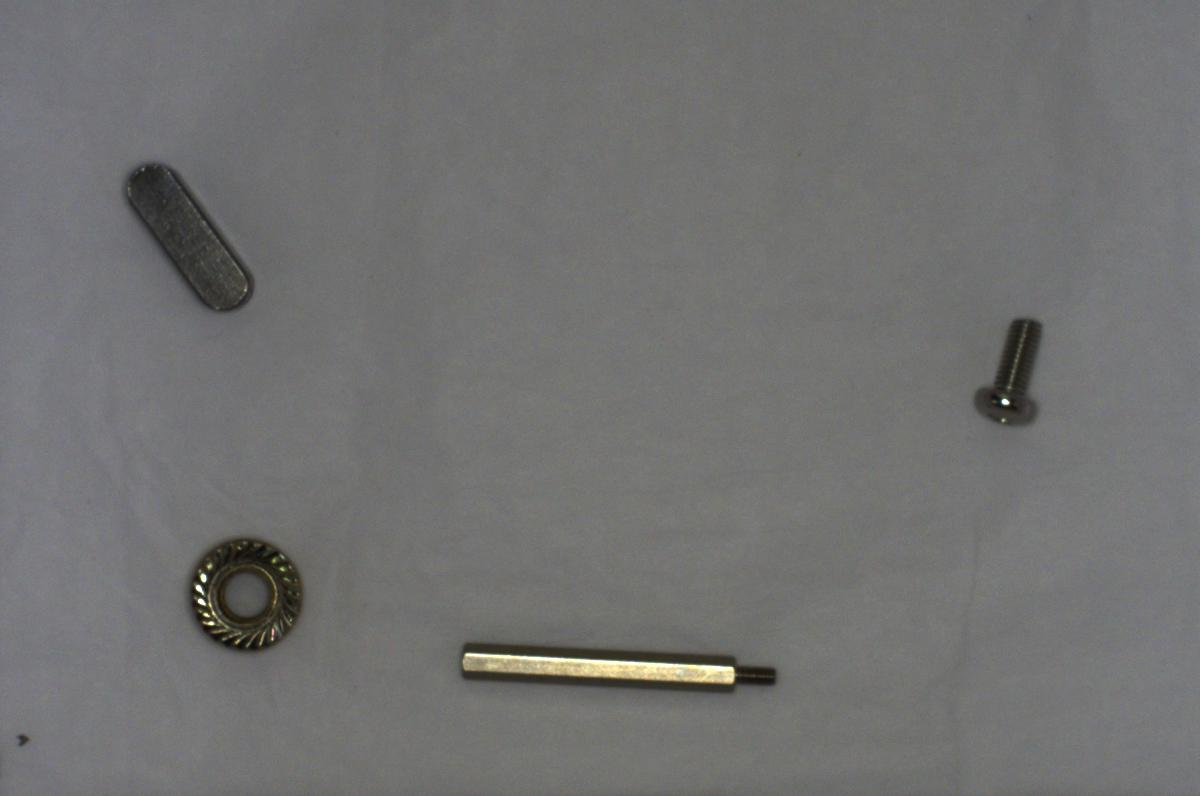Flange nut: (179, 527, 311, 649)
Hexagonal steel column: (444, 625, 790, 713)
Keybar: (114, 152, 257, 318)
Round head screw: (962, 309, 1052, 434)
